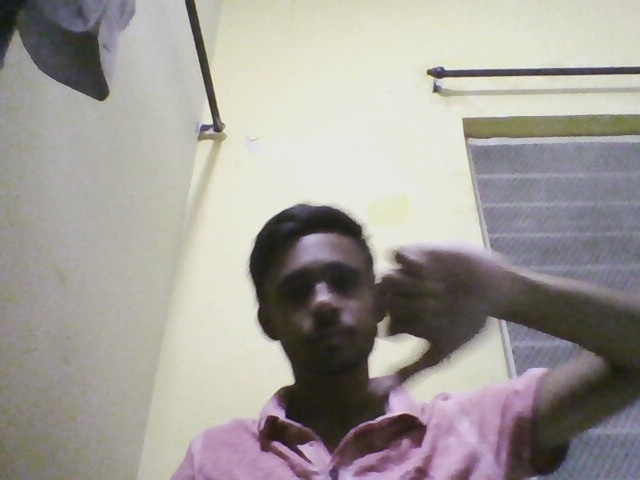no: (367, 220, 508, 385)
